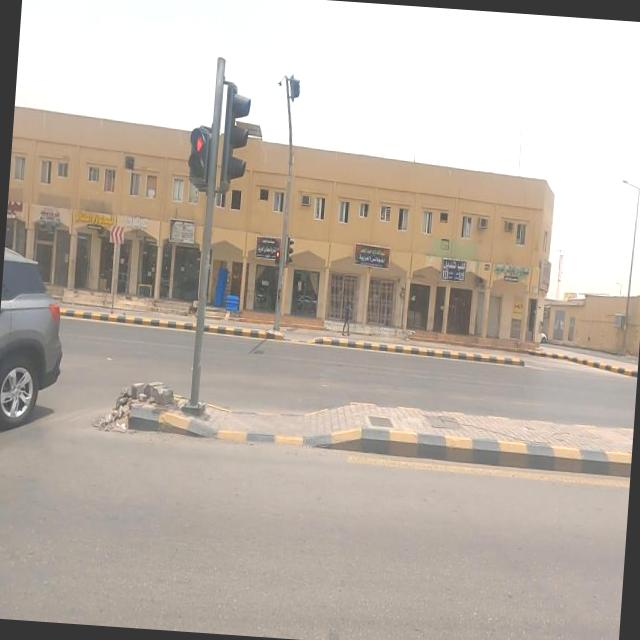debris: (78, 337, 169, 488), (148, 184, 210, 280)
